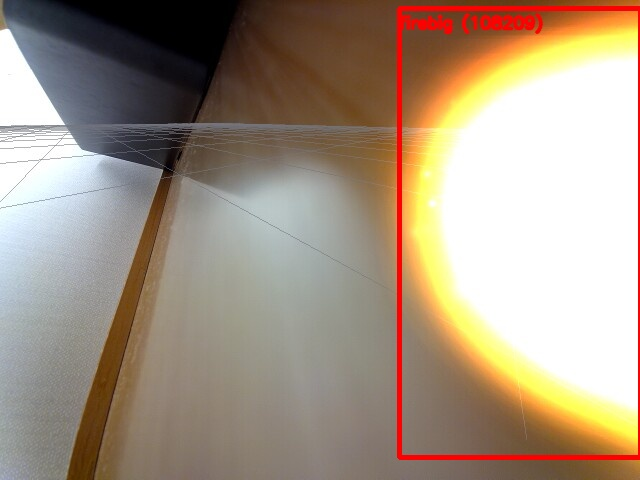firebig: (399, 8, 640, 457)
